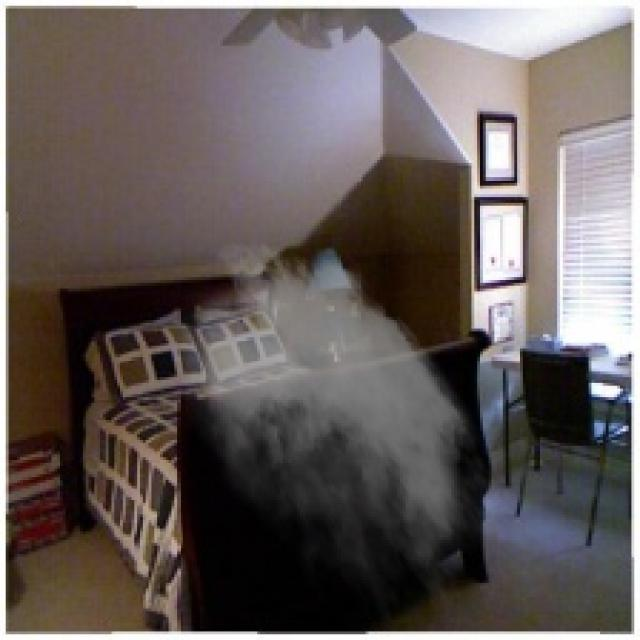smoke: (163, 228, 508, 623)
